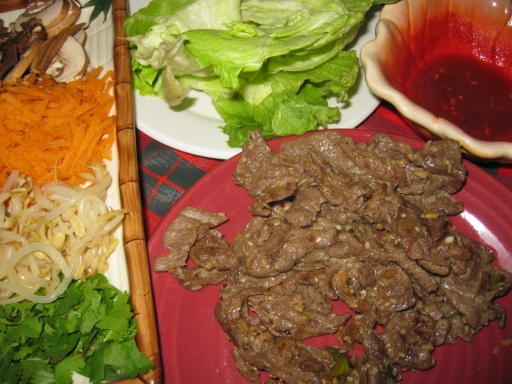background: (93, 0, 409, 230), (0, 0, 125, 230), (84, 31, 409, 85)
